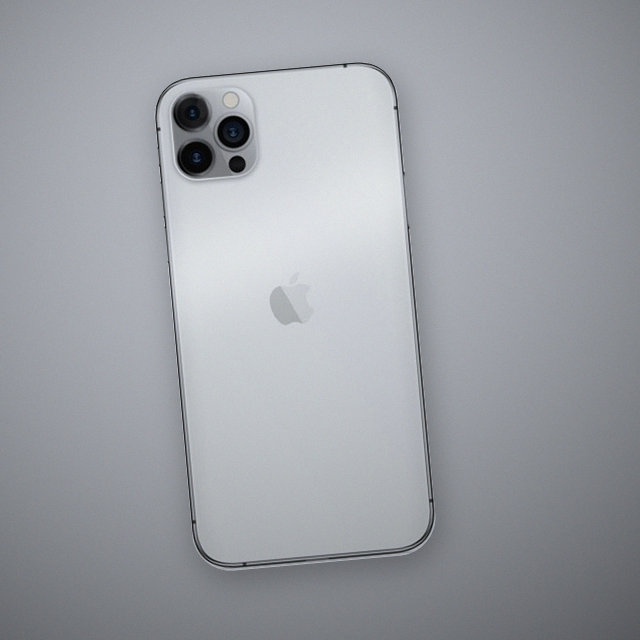iphone_12pro_silver: (147, 42, 472, 604), (163, 82, 262, 185)
